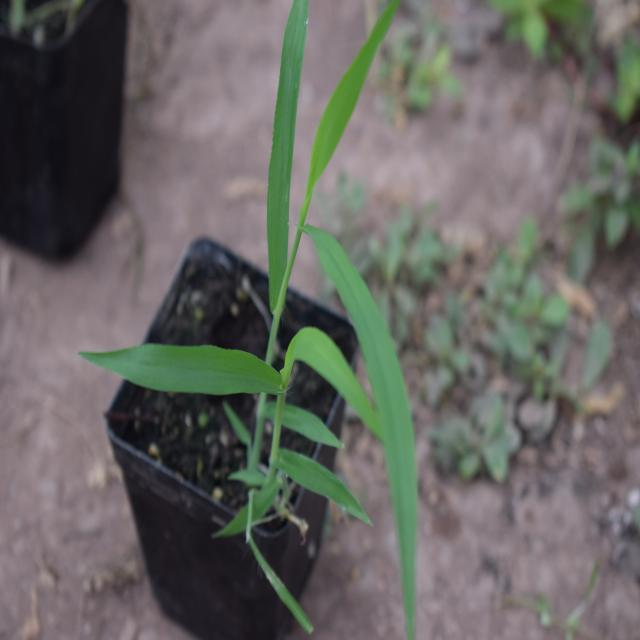crabgrass: (136, 43, 452, 566)
